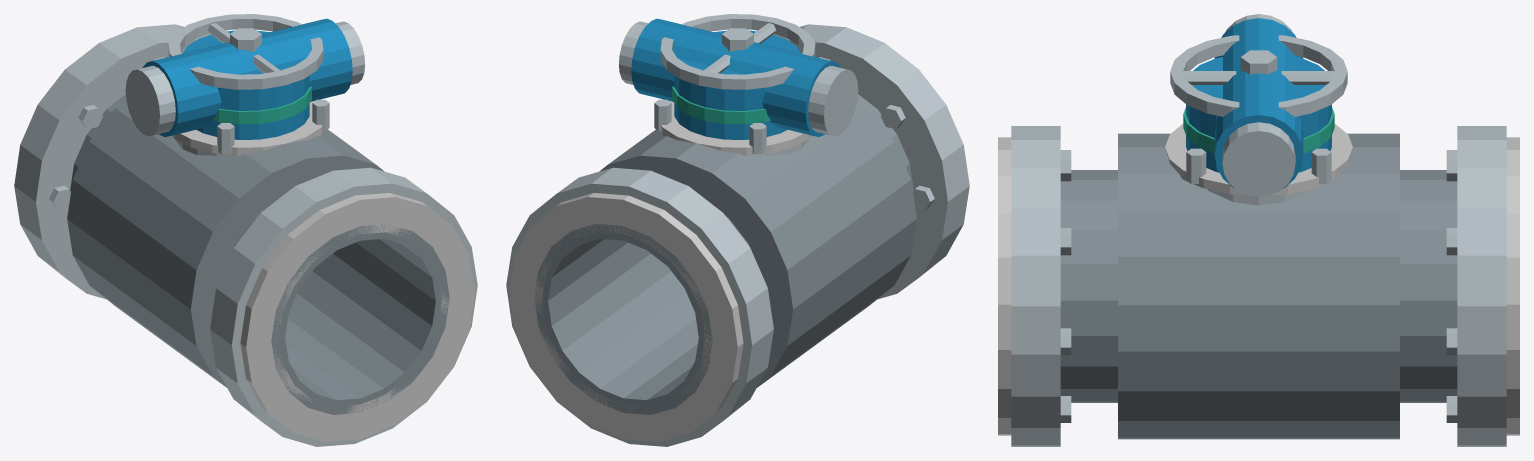
The model's file is body.obj.
The picture shows the model from 3 angles, left to right: view 1: azimuth 30°, elevation 25°; view 2: azimuth 150°, elevation 25°; view 3: azimuth 270°, elevation 25°; orthographic projection. The views are drawn at different scales.
Size of the model in its own units: 0.62 by 0.795 by 1.
